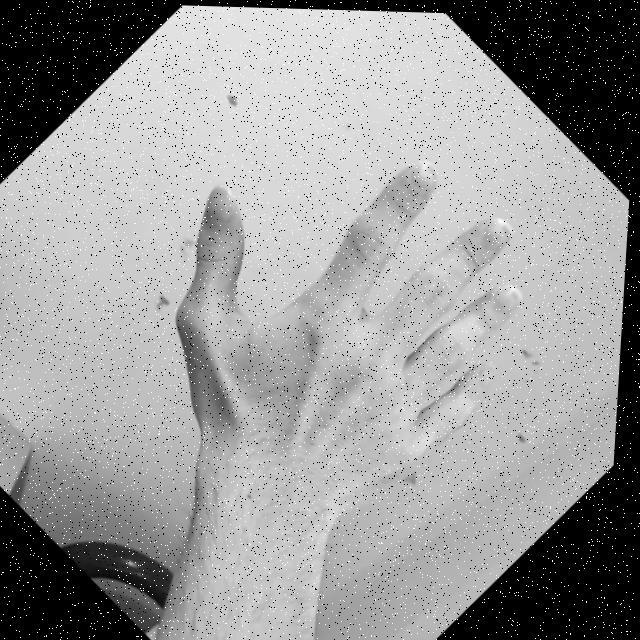no-gloves: (94, 46, 606, 546)
